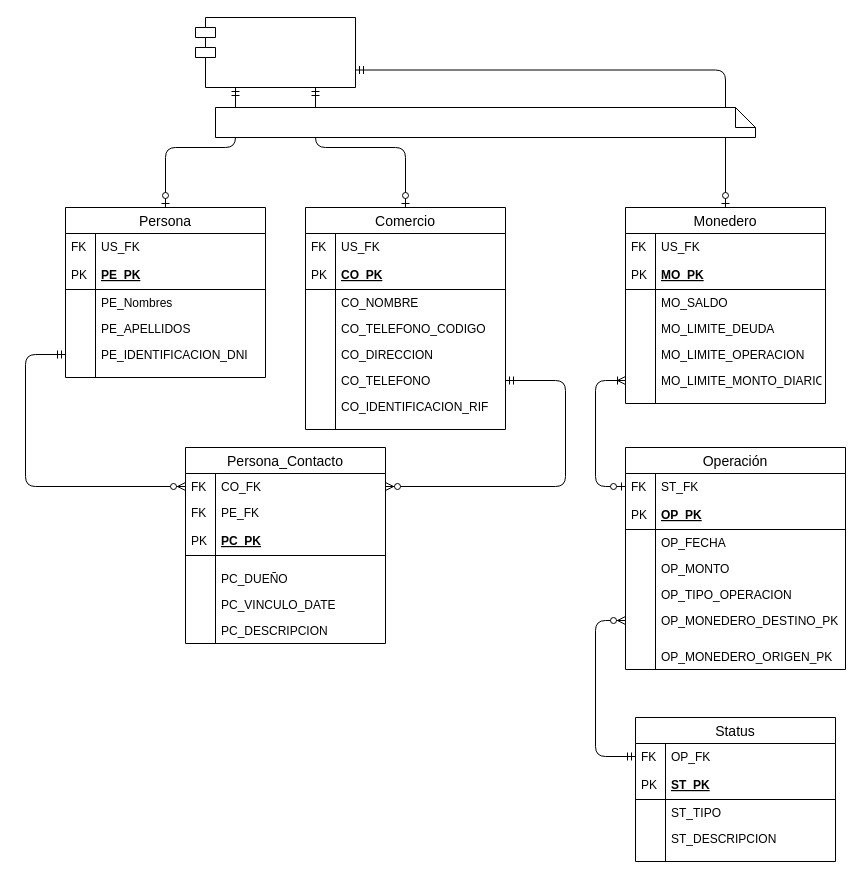
This 863x879 diagram has some shape labels left out. Here are the shapes that lost their labels. From the top down, the centre of each, then its label:
At [275,52]: "ENTITY-FRAMEWORK Vinculados directamente al id de usuario".
At [485,122]: "ID_USUARIO = US_FK".
